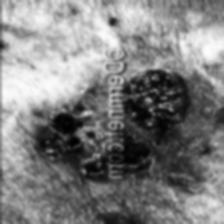Potentially Malignant Skin Tumors: (28, 106, 98, 178), (125, 66, 193, 140), (125, 144, 198, 207)
